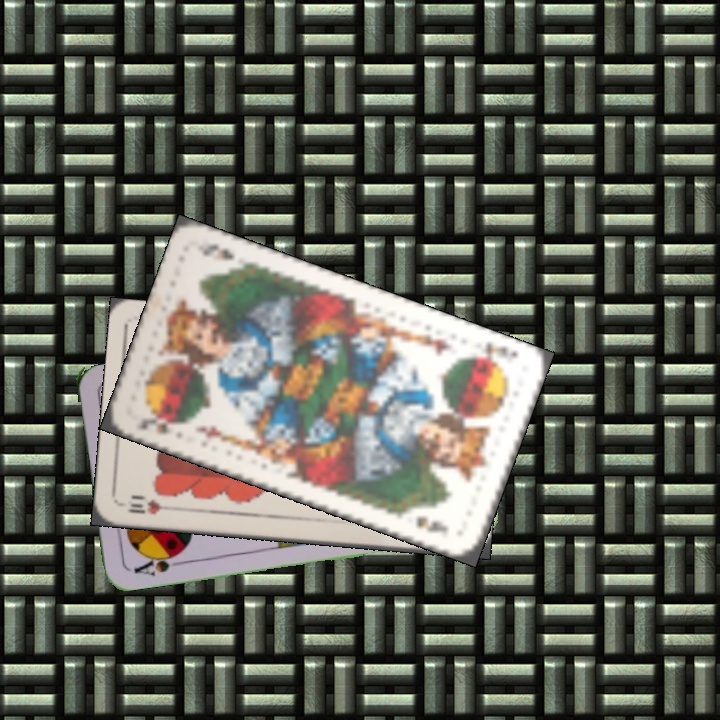H10: (123, 495, 177, 517)
SA: (130, 548, 186, 579)
SK: (135, 409, 185, 437), (480, 337, 522, 370)
